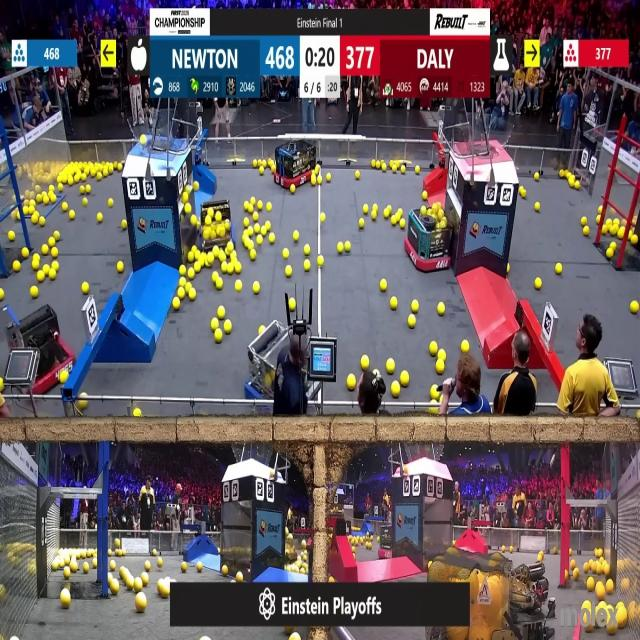ball_airborne: (140, 135, 147, 146)
ball_ground: (617, 610, 628, 630), (136, 594, 147, 612), (160, 582, 171, 598), (62, 591, 72, 608), (596, 585, 606, 600), (399, 372, 408, 387), (391, 382, 400, 397), (606, 623, 616, 636), (110, 582, 119, 596), (348, 376, 356, 391), (360, 356, 369, 369), (386, 358, 394, 372), (126, 576, 134, 590), (222, 320, 230, 333), (409, 315, 417, 328), (32, 259, 40, 272), (211, 318, 219, 331), (430, 386, 438, 399), (605, 582, 613, 595), (141, 573, 149, 586), (429, 342, 436, 356), (412, 302, 420, 314), (630, 302, 638, 314), (288, 300, 296, 312), (380, 280, 388, 292), (214, 332, 222, 344), (135, 580, 143, 592), (390, 296, 397, 309), (438, 360, 445, 373), (588, 579, 595, 592), (61, 372, 68, 385), (186, 269, 194, 280), (556, 264, 563, 276), (534, 278, 541, 290), (31, 286, 38, 298), (461, 341, 468, 353), (439, 304, 446, 316), (218, 307, 225, 319), (12, 262, 19, 274), (173, 300, 180, 312), (183, 562, 190, 574), (226, 264, 233, 276), (207, 253, 214, 265), (603, 564, 610, 576), (22, 248, 30, 258), (236, 281, 243, 292), (187, 252, 194, 263), (439, 350, 446, 361), (116, 263, 123, 274), (317, 255, 324, 266), (225, 242, 232, 253), (37, 272, 44, 283), (188, 289, 195, 300), (338, 243, 345, 254), (619, 228, 626, 239), (53, 262, 60, 273), (250, 249, 256, 261), (82, 282, 88, 294), (180, 266, 186, 278), (70, 210, 76, 222), (253, 282, 259, 294), (134, 410, 142, 419), (78, 399, 86, 408), (50, 248, 57, 258), (178, 288, 185, 298), (606, 249, 613, 259), (237, 572, 244, 582), (179, 277, 186, 287), (285, 268, 292, 278), (582, 226, 589, 236), (220, 264, 227, 274), (109, 561, 116, 571), (571, 568, 578, 578), (283, 248, 289, 259), (305, 245, 311, 256), (344, 242, 350, 253), (221, 565, 227, 576), (198, 562, 204, 573), (64, 567, 70, 578), (82, 563, 88, 574), (568, 177, 574, 188), (428, 408, 436, 416), (155, 558, 162, 567), (584, 600, 591, 609), (243, 238, 250, 247), (49, 270, 55, 280), (305, 262, 311, 272), (236, 265, 242, 275), (42, 245, 48, 255), (216, 280, 222, 290), (422, 190, 428, 200), (362, 205, 368, 215), (144, 561, 150, 571), (212, 272, 218, 282), (244, 217, 250, 227), (55, 232, 61, 242), (32, 214, 38, 224), (253, 223, 259, 233), (358, 218, 364, 228), (244, 202, 250, 212), (292, 232, 298, 242), (184, 204, 190, 214), (312, 176, 318, 186), (270, 235, 276, 245), (632, 236, 638, 246), (248, 239, 254, 249), (0, 378, 4, 393), (182, 192, 188, 202), (119, 566, 125, 576), (220, 252, 226, 262), (588, 624, 594, 634), (33, 195, 39, 205), (114, 538, 120, 548), (232, 252, 238, 262), (599, 601, 606, 609), (8, 233, 14, 242), (266, 221, 272, 230), (256, 202, 262, 211), (601, 225, 607, 234), (62, 203, 68, 212), (48, 238, 54, 247), (193, 264, 199, 273), (390, 216, 396, 225), (192, 182, 198, 191), (579, 216, 585, 225), (68, 176, 74, 185), (252, 212, 258, 221), (43, 197, 49, 206), (397, 209, 403, 218), (74, 174, 80, 183), (370, 211, 375, 221), (399, 218, 404, 228), (190, 216, 195, 226), (585, 563, 590, 573), (108, 573, 113, 583), (108, 200, 114, 208), (384, 210, 390, 218), (328, 575, 334, 583), (534, 173, 540, 181), (59, 183, 65, 191), (609, 242, 615, 250), (43, 266, 49, 274), (52, 196, 58, 204), (87, 185, 93, 193), (564, 568, 570, 576), (382, 165, 388, 173), (537, 554, 543, 562), (314, 166, 320, 174), (598, 207, 604, 215), (290, 634, 298, 640), (268, 203, 273, 212), (98, 213, 103, 222), (320, 213, 325, 222), (534, 203, 539, 212), (290, 184, 295, 193), (256, 237, 261, 246), (39, 217, 44, 226), (79, 185, 84, 194), (574, 181, 579, 190), (80, 173, 85, 182), (248, 229, 253, 238), (98, 172, 103, 181), (596, 216, 602, 223), (250, 198, 256, 205), (24, 208, 30, 215), (82, 200, 87, 208), (0, 289, 4, 299), (416, 167, 421, 175), (121, 220, 126, 228), (326, 174, 331, 182), (570, 560, 575, 568), (48, 184, 53, 192), (370, 161, 375, 169), (584, 616, 589, 624), (356, 171, 360, 180), (252, 162, 258, 168), (616, 219, 622, 225), (259, 168, 264, 175), (400, 168, 405, 175), (392, 168, 397, 175), (269, 161, 274, 168), (371, 205, 376, 212), (94, 560, 98, 568), (522, 189, 526, 197), (120, 162, 124, 170), (560, 171, 564, 178), (108, 550, 112, 557), (568, 550, 572, 557), (506, 266, 509, 275), (152, 551, 156, 557), (554, 547, 558, 553), (352, 545, 356, 551), (217, 547, 221, 553)
goal: (461, 118, 516, 158), (124, 118, 185, 153)
robot_blue: (247, 326, 303, 414), (196, 199, 238, 256), (0, 164, 14, 225)
robot_red: (404, 206, 452, 272), (273, 140, 317, 190)
